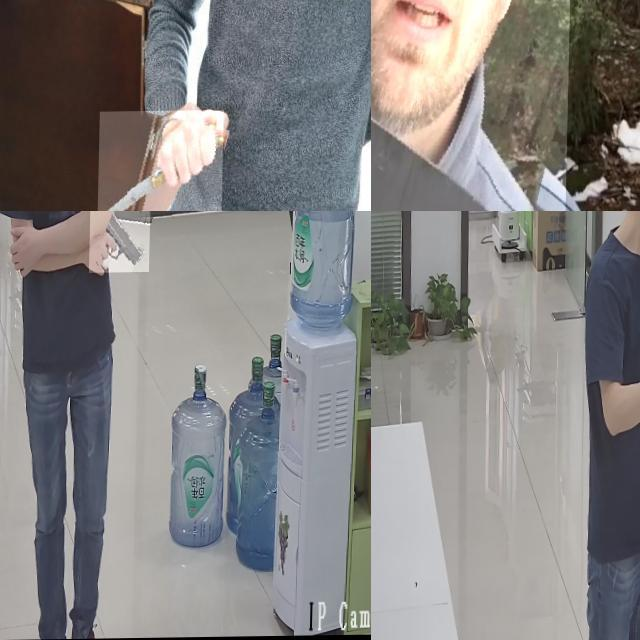-: (371, 0, 572, 211), (99, 111, 226, 211)
gun-knife-thesis - v11 Yolov5 augmented: (90, 211, 151, 273)
